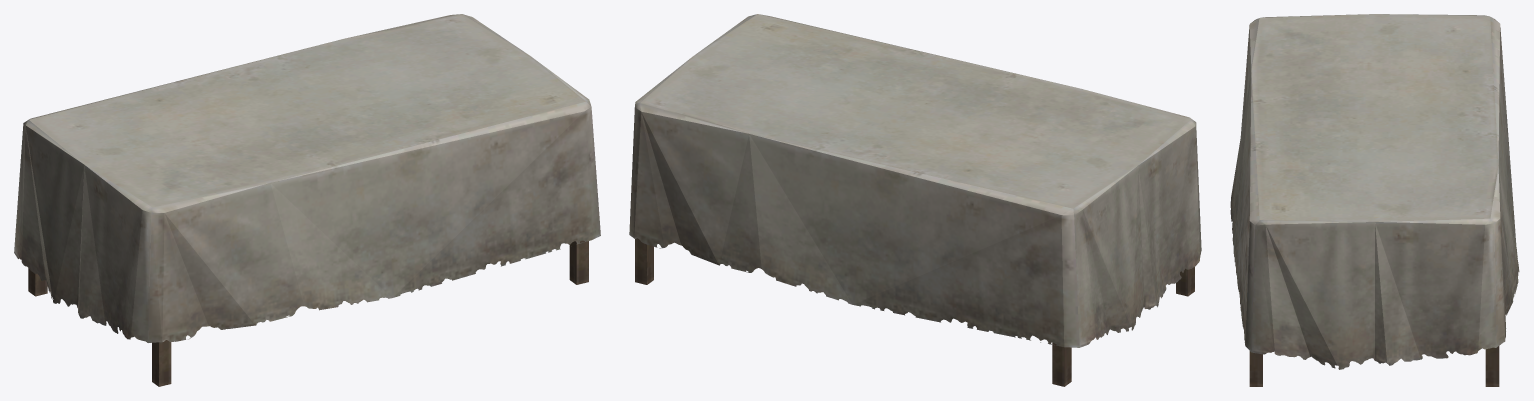
Rendered from bg_lut_lucastle_furniture03_sm_artree.FBX.
3 renders of one model, left to right at view 1: azimuth 30°, elevation 25°; view 2: azimuth 150°, elevation 25°; view 3: azimuth 270°, elevation 25°, orthographic. The views are drawn at different scales.
Visible parts, largest first — view 1: bg_lut_lucastle_furniture03_sm_artree; view 2: bg_lut_lucastle_furniture03_sm_artree; view 3: bg_lut_lucastle_furniture03_sm_artree.
Part boxes in pixels (box(x1,y1,x2,y2)): bg_lut_lucastle_furniture03_sm_artree: box(14, 14, 600, 386); bg_lut_lucastle_furniture03_sm_artree: box(629, 14, 1201, 386); bg_lut_lucastle_furniture03_sm_artree: box(1230, 14, 1519, 386).
Size of the model in its own units: 206 by 73.79 by 115.
